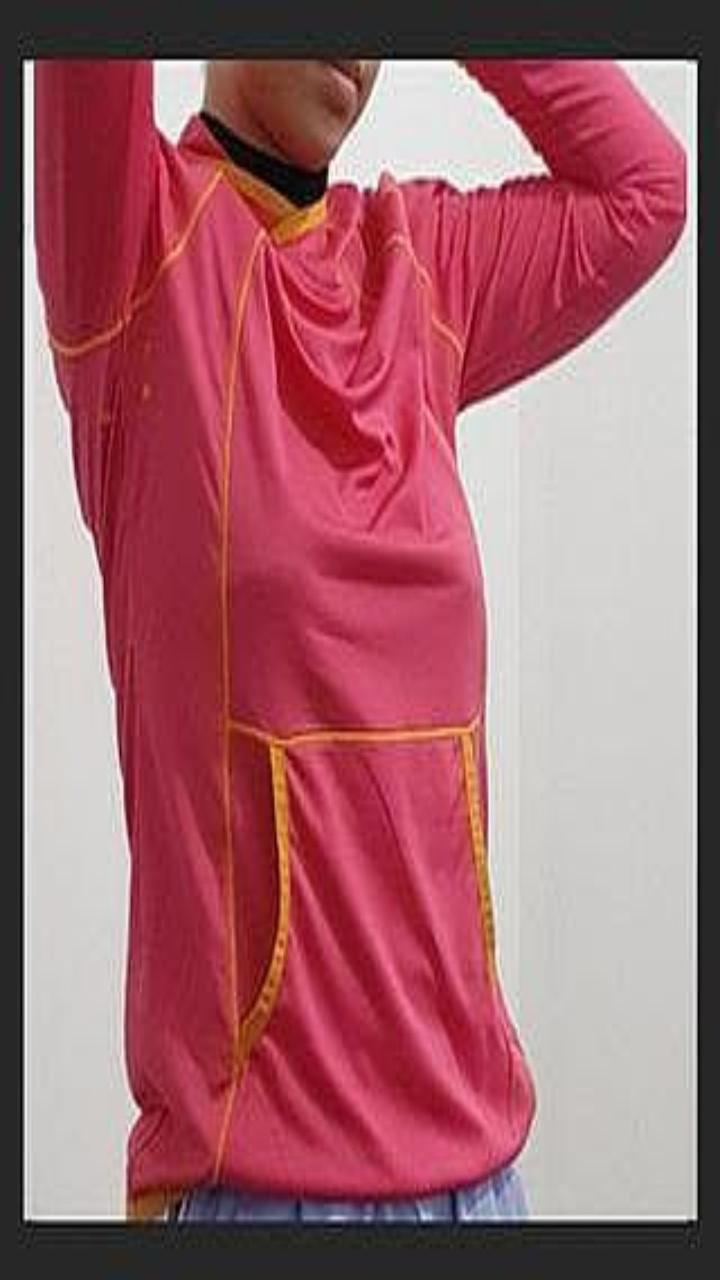Shorts: (162, 1165, 528, 1222)
T-Shirt: (35, 59, 684, 1215)
